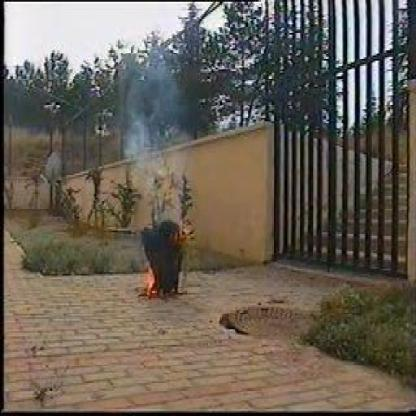-: (120, 65, 182, 181)
foggia-v2-map80-epoch100 - v1 4323: (144, 270, 156, 296)
